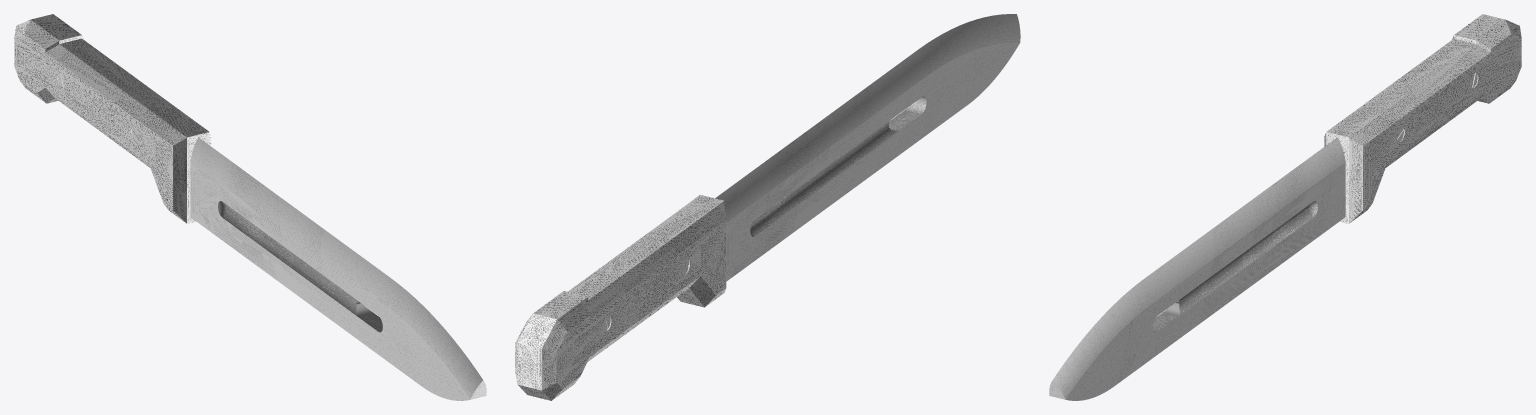
File: model_align.obj
The picture shows the model from 3 angles, left to right: view 1: azimuth 30°, elevation 25°; view 2: azimuth 150°, elevation 25°; view 3: azimuth 330°, elevation 25°; orthographic projection. The views are drawn at different scales.
Parts seen in each view (by area): view 1: mesh1_mesh1-geometry; view 2: mesh1_mesh1-geometry; view 3: mesh1_mesh1-geometry.
Part boxes in pixels (x1,y1,x2,y2): mesh1_mesh1-geometry: [14, 14, 486, 400]; mesh1_mesh1-geometry: [515, 14, 1020, 400]; mesh1_mesh1-geometry: [1049, 14, 1521, 400].
Size of the model in its own units: 0.0103 by 0.0228 by 0.2097.
7 materials, 6 textured.
